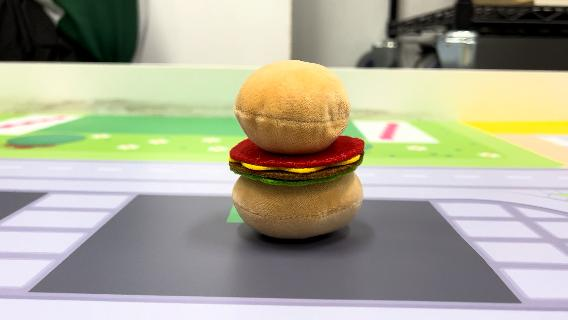burger: (224, 56, 370, 242)
